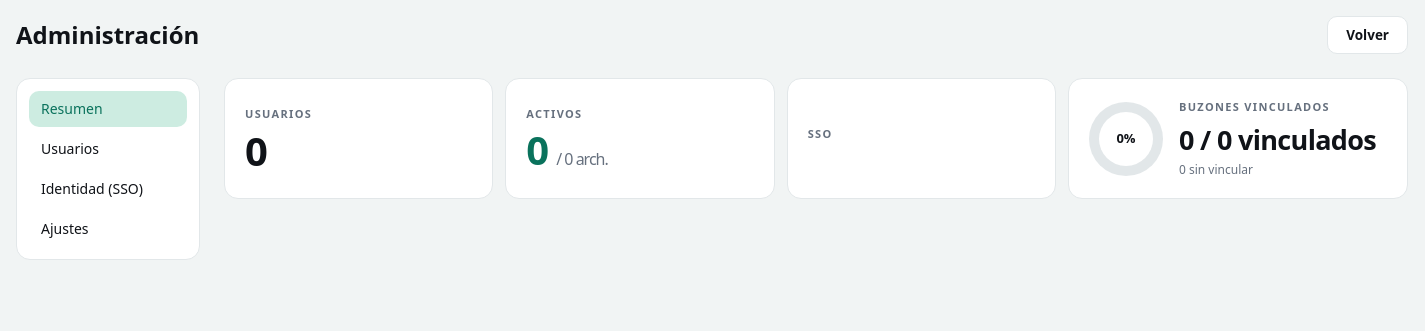
it: AdminPage users table › shows a load-error banner when the users query fails
The width and height of the screenshot is (1425, 331).
Click the button "Usuarios": (108, 149) [29,131,187,167]
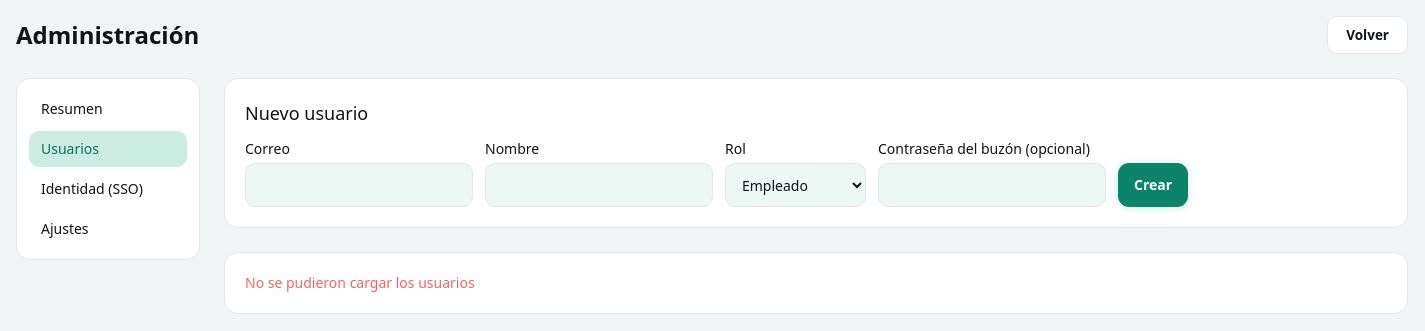
Check: the text "No se pudieron cargar los usuarios" is shown, box [245,273,475,292]
